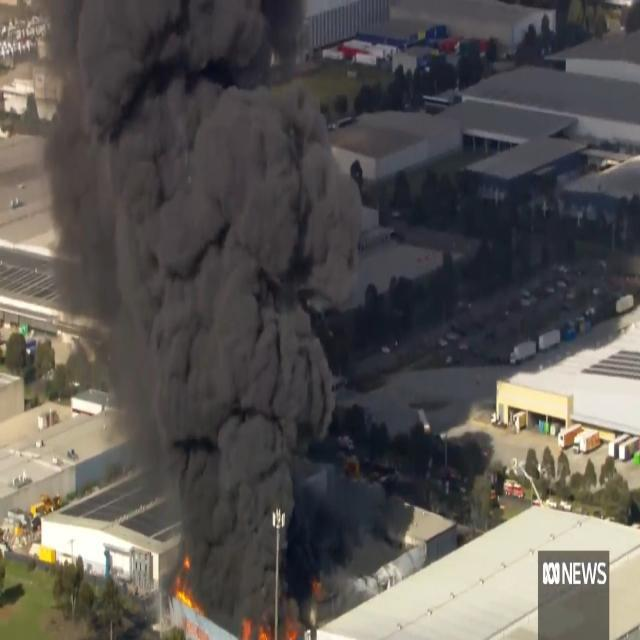fire: (236, 611, 313, 640), (170, 552, 202, 612)
